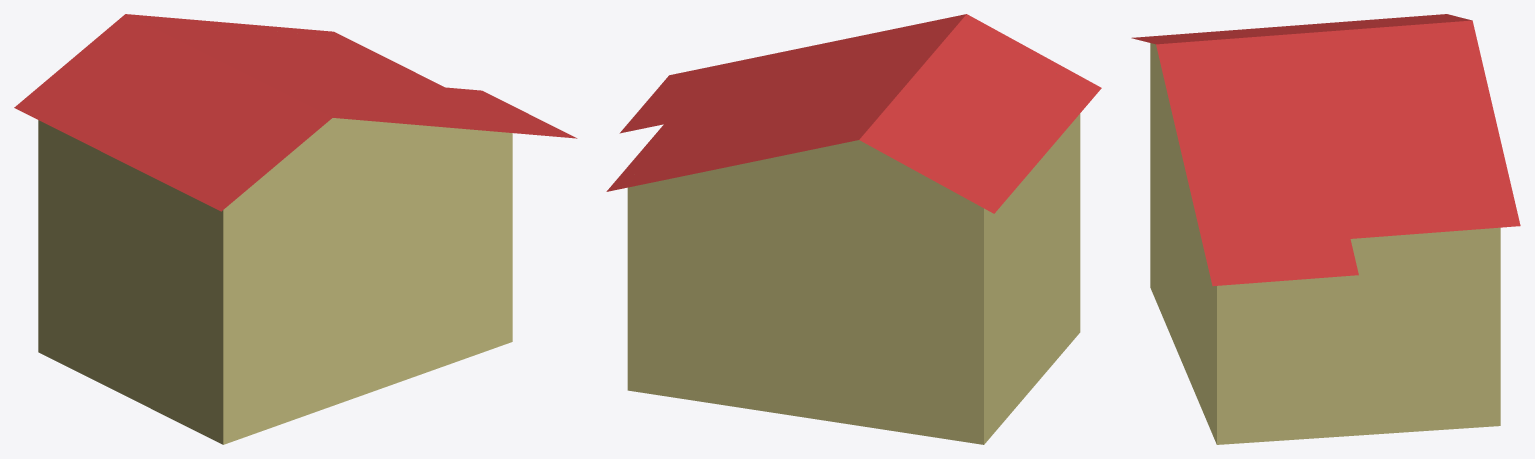
The picture shows the model from 3 angles, left to right: view 1: azimuth 30°, elevation 25°; view 2: azimuth 150°, elevation 25°; view 3: azimuth 270°, elevation 25°; orthographic projection.
Bounding box in the file's own units: 15.02 × 11.36 × 9.56.
